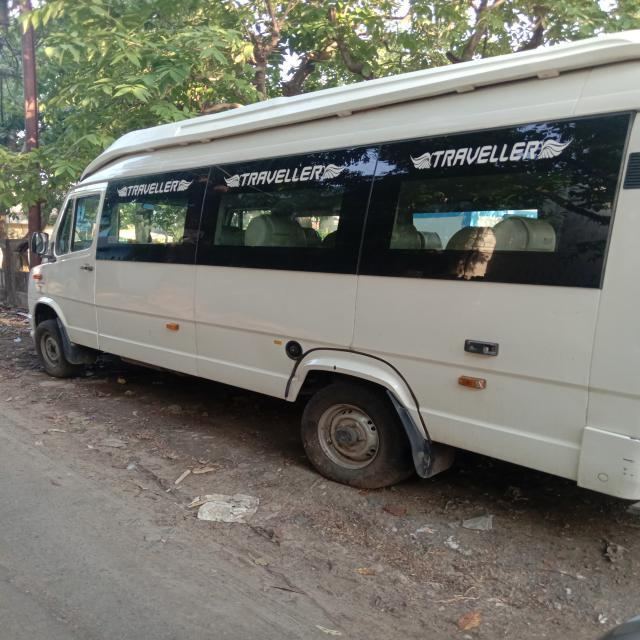bus_back: (21, 20, 640, 506)
